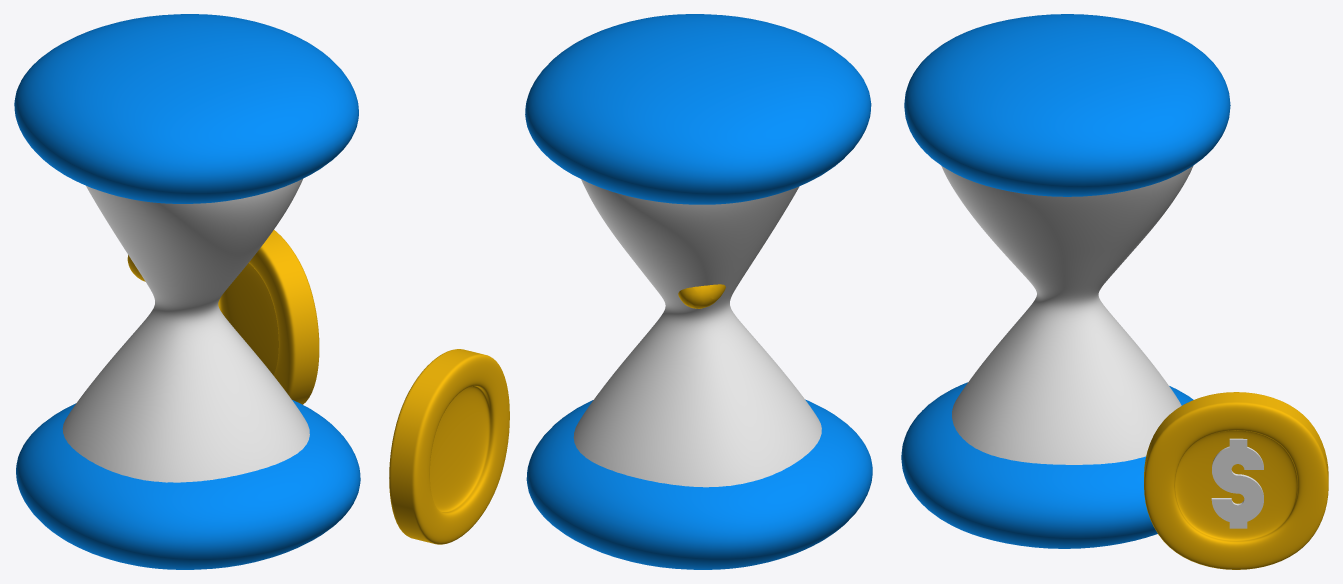
Rendered from loan-period-6507823-3.fbx.
The picture shows the model from 3 angles, left to right: view 1: azimuth 30°, elevation 25°; view 2: azimuth 150°, elevation 25°; view 3: azimuth 270°, elevation 25°; orthographic projection. The views are drawn at different scales.
Visible parts, largest first — view 1: Cube, Cube.001, Cube.002, Cube.004; view 2: Cube, Cube.001, Cube.002, Cube.004, Mball.013; view 3: Cube, Cube.001, Cube.004, Cube.002, Text.006.
Part boxes in pixels (left/top/right/bottom): Cube: left=14, top=14, right=358, bottom=203; Cube.001: left=62, top=179, right=309, bottom=482; Cube.002: left=16, top=400, right=360, bottom=569; Cube.004: left=218, top=230, right=319, bottom=404; Cube: left=525, top=14, right=871, bottom=204; Cube.001: left=573, top=179, right=821, bottom=487; Cube.002: left=526, top=399, right=872, bottom=569; Cube.004: left=389, top=349, right=509, bottom=544; Mball.013: left=678, top=284, right=725, bottom=308; Cube: left=904, top=14, right=1230, bottom=196; Cube.001: left=941, top=165, right=1193, bottom=464; Cube.004: left=1144, top=392, right=1328, bottom=569; Cube.002: left=901, top=382, right=1193, bottom=548; Text.006: left=1211, top=438, right=1263, bottom=528.
Bounding box in the file's own units: 498 × 713 × 594.
